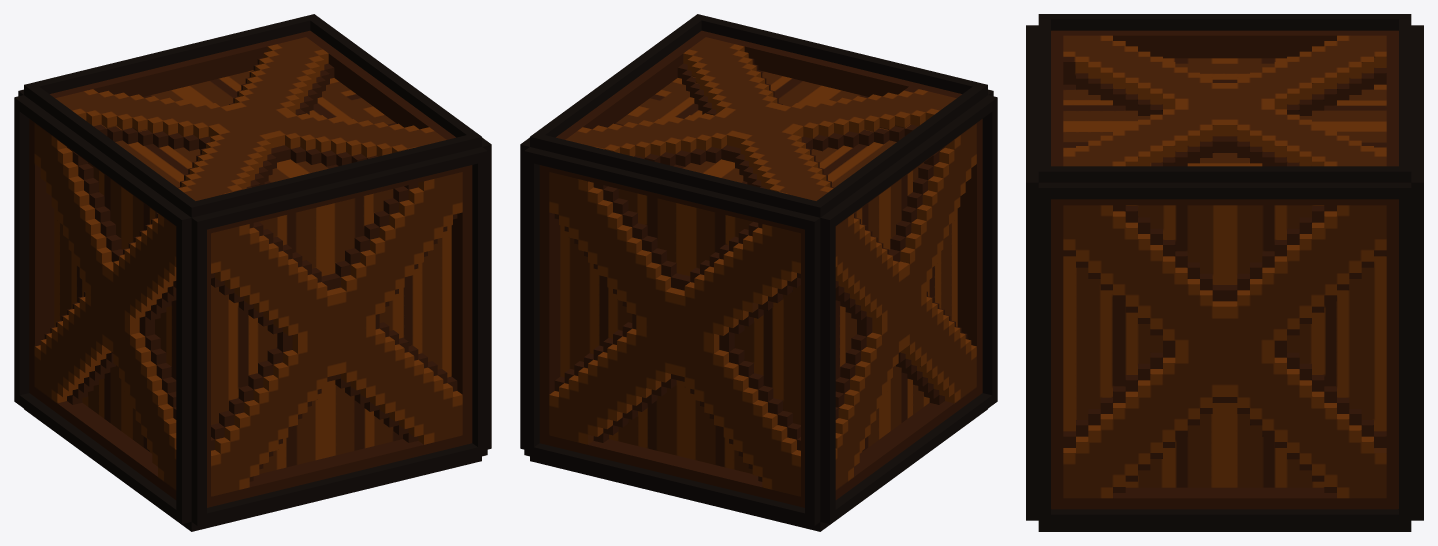
3 renders of one model, left to right at view 1: azimuth 30°, elevation 25°; view 2: azimuth 150°, elevation 25°; view 3: azimuth 270°, elevation 25°, orthographic. The views are drawn at different scales.
Parts seen in each view (by area): view 1: Voxel_Box; view 2: Voxel_Box; view 3: Voxel_Box.
Boxes of the visible parts, box(x1,y1,x2,y2) form: Voxel_Box: box(14, 14, 491, 531); Voxel_Box: box(520, 14, 997, 531); Voxel_Box: box(1026, 14, 1423, 531).
Size of the model in its own units: 122 by 122 by 122.
